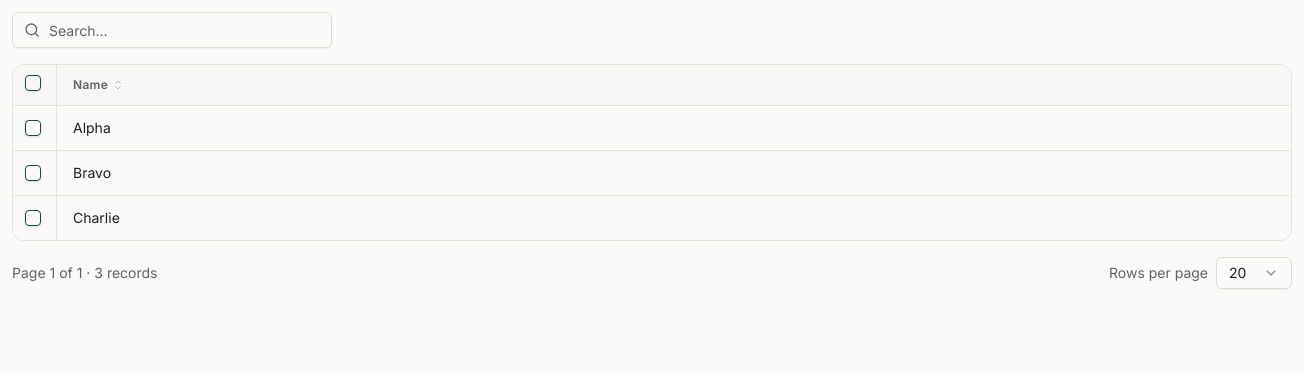
Scenario: CustomTable › selects rows and select-all-on-page, and hands the selection to a bulk action
The image size is (1304, 372).
Step 1. Click the checkbox named "Select Bravo" → (33, 172), box [25,164,41,180]
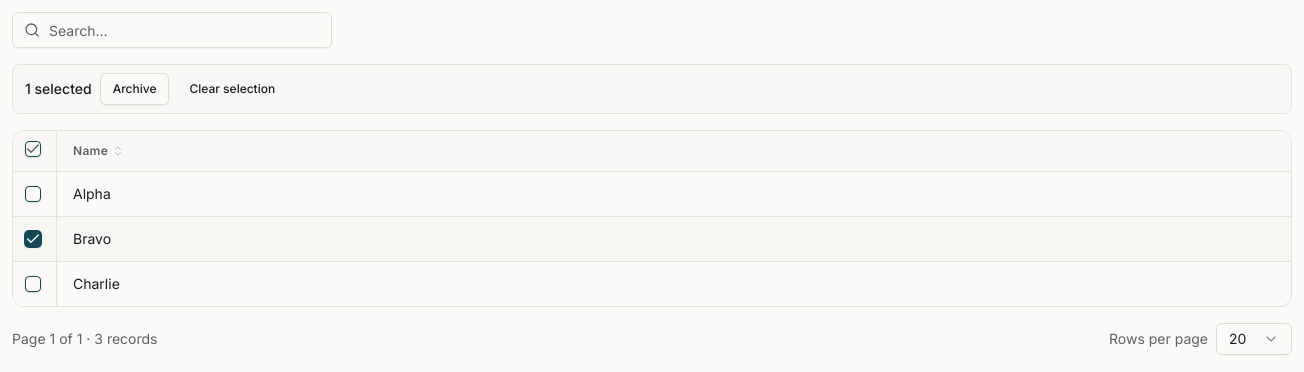
Now the text "1 selected" is shown, box [25,79,92,99]
Step 2. Click the button "Archive" → (135, 89), box [100,73,170,105]
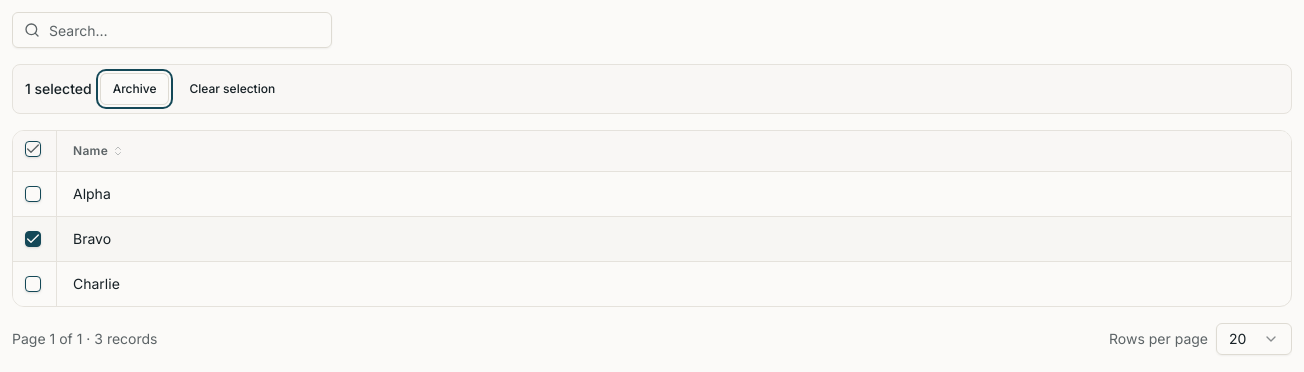
Step 3. Click the checkbox named "Select all rows on this page" → (33, 149), box [25,141,41,157]
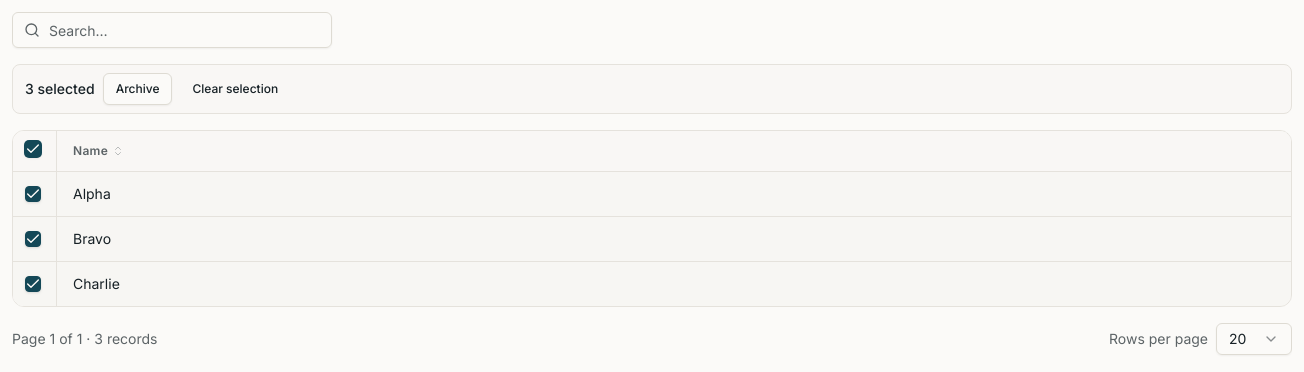
Now the text "3 selected" is shown, box [25,79,95,99]
Step 4. Click the button "Archive" → (138, 89), box [103,73,172,105]
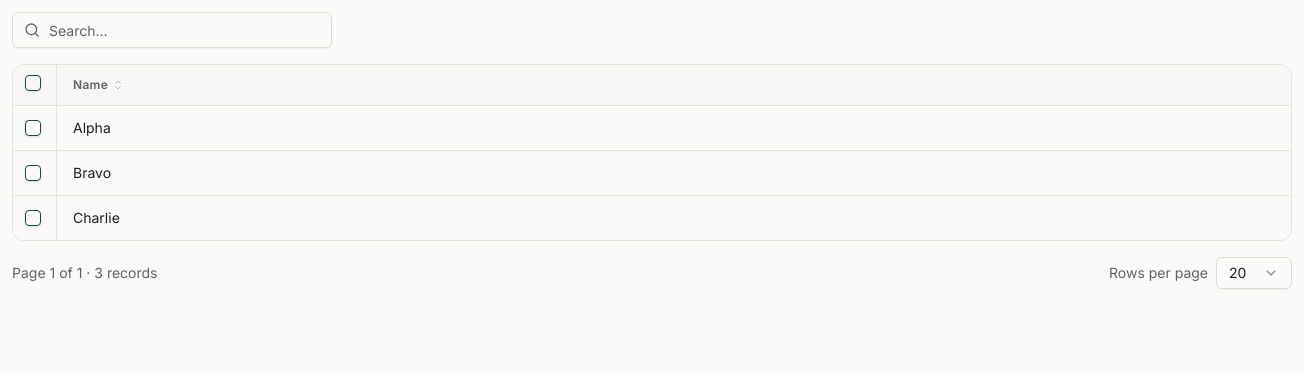
Now the text "selected" is gone
